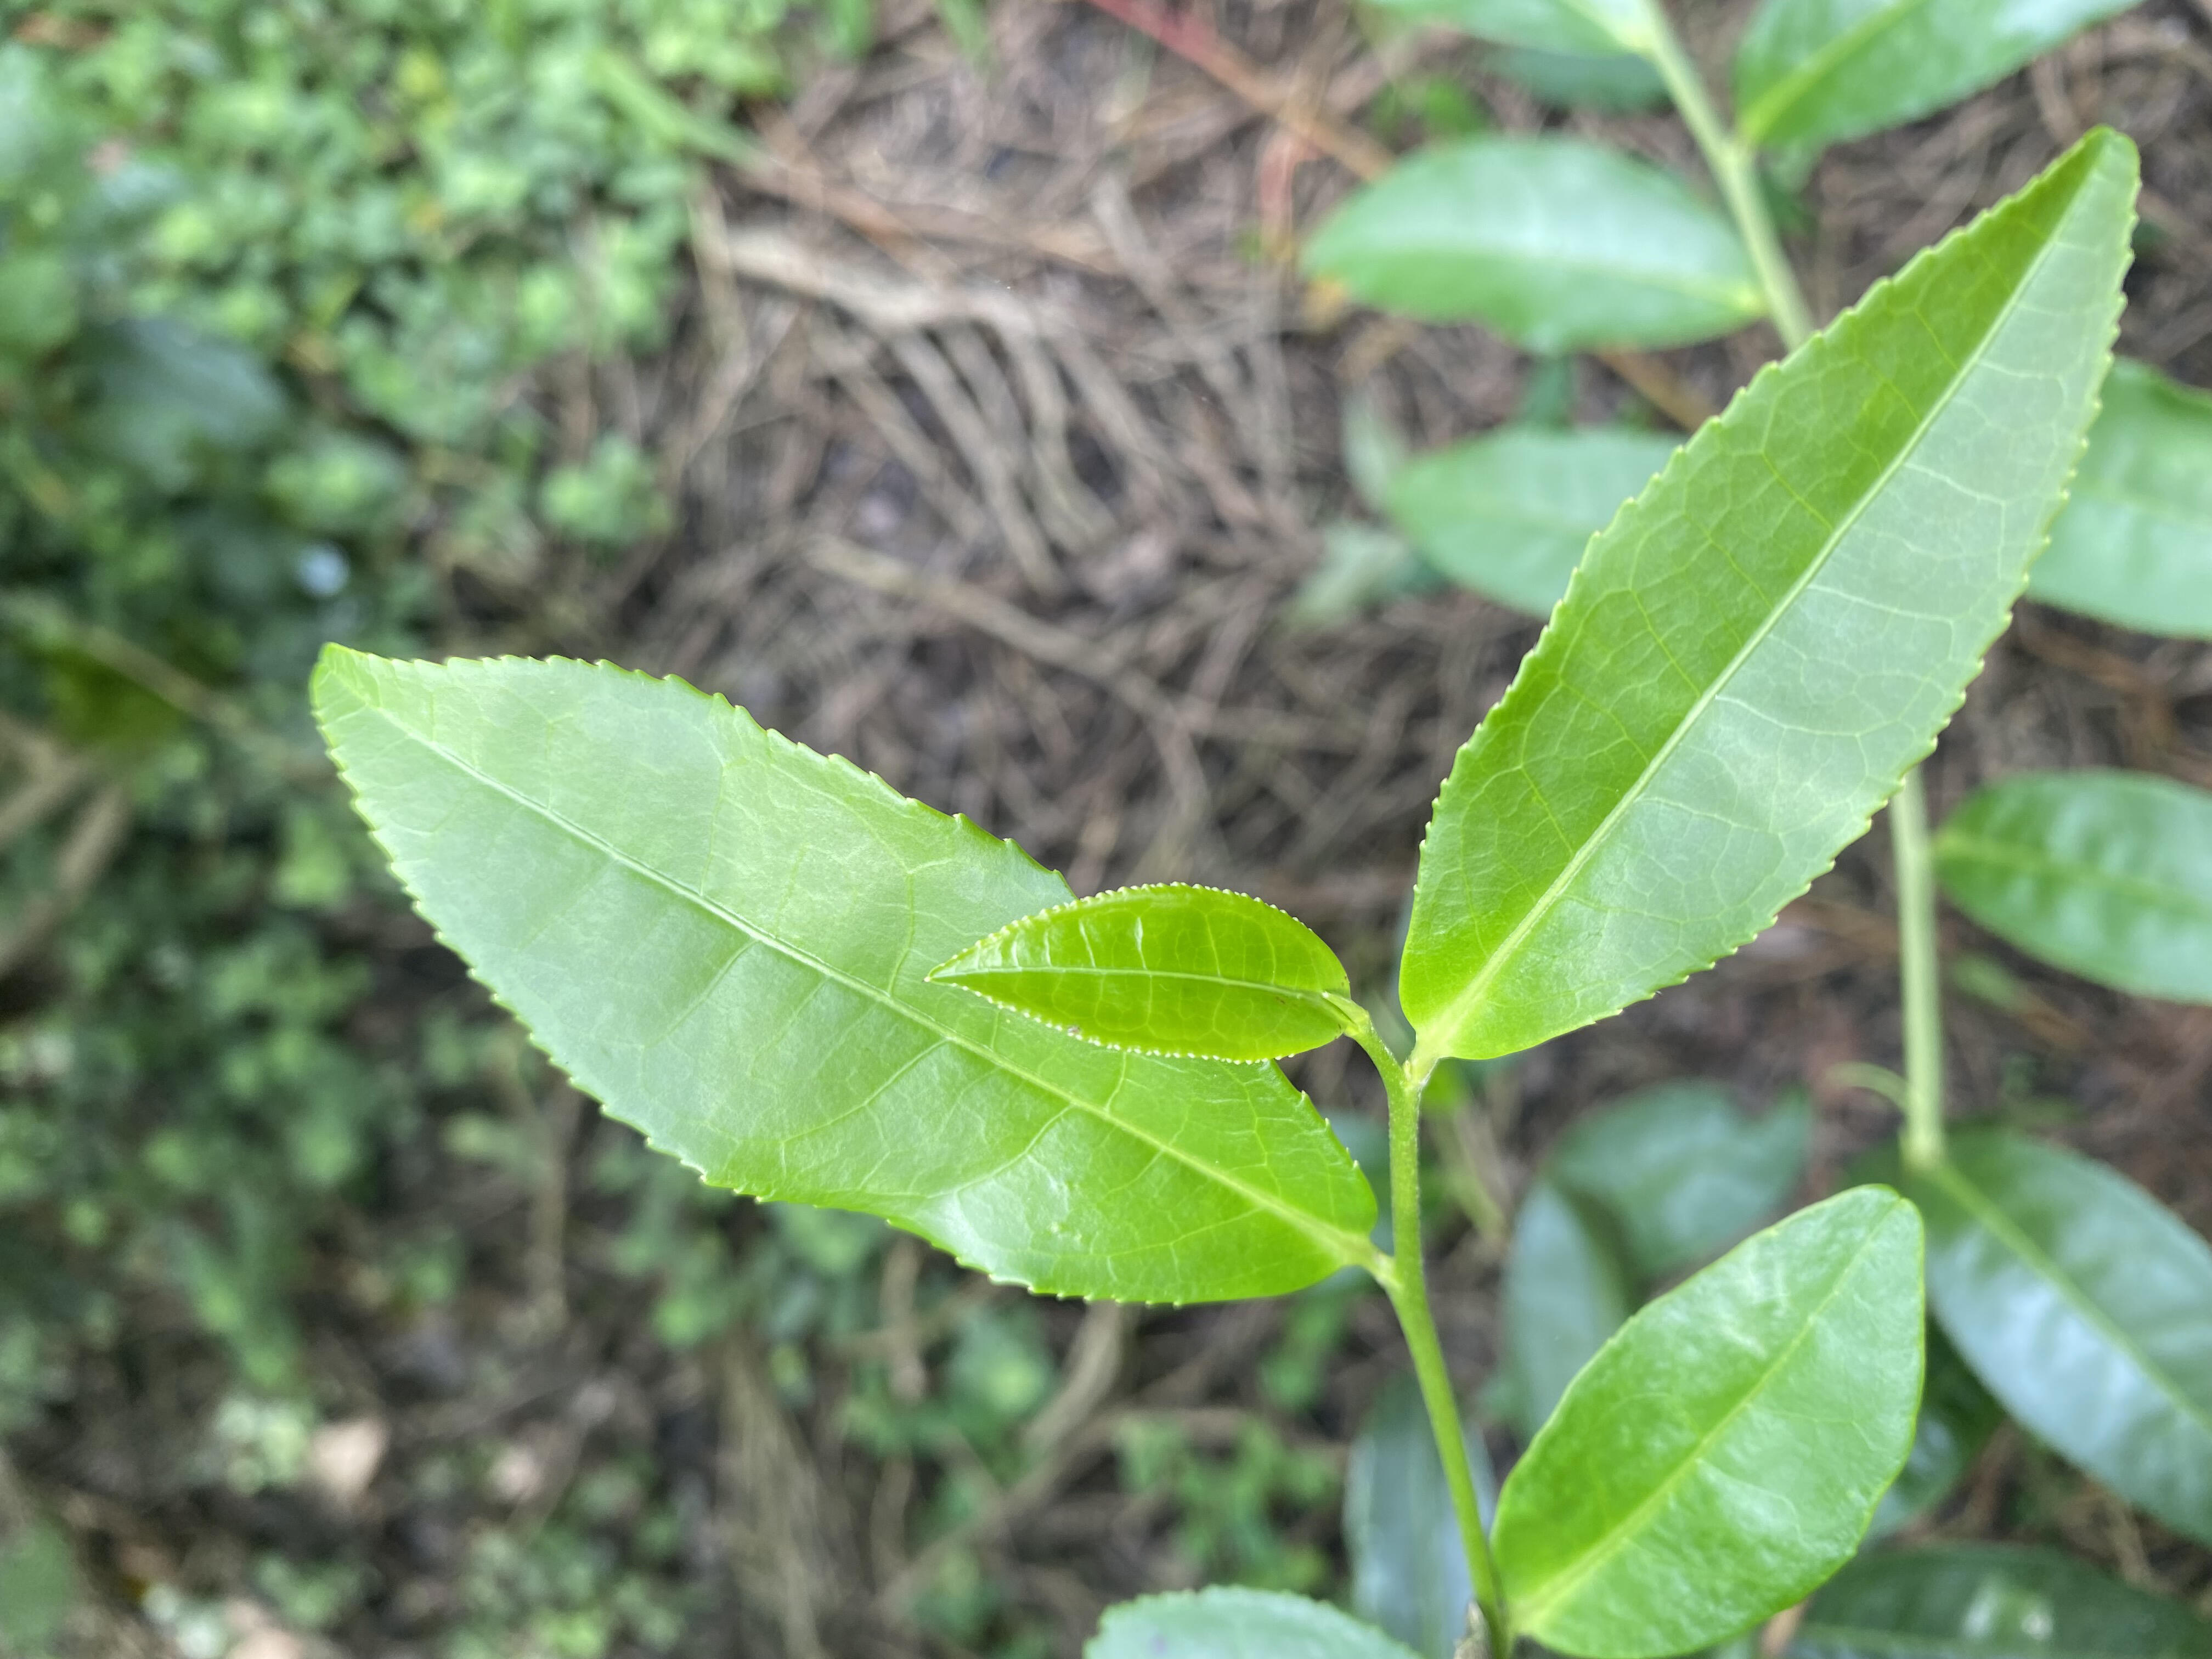healthy: (307, 638, 1379, 1309), (1397, 124, 2141, 1066), (1489, 1180, 1930, 1656), (921, 877, 1355, 1065)
